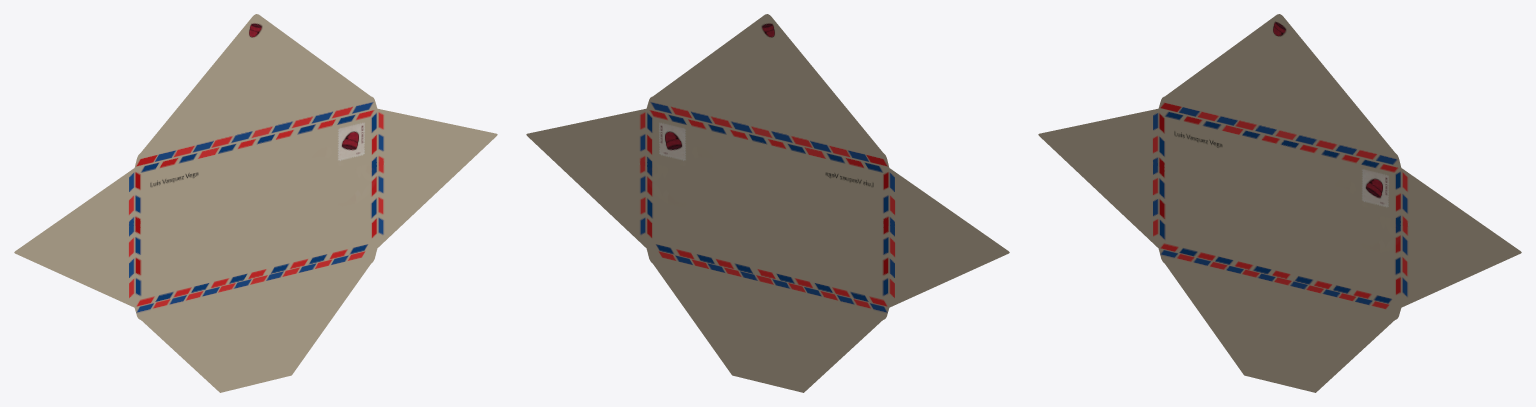
Rendered from envelope.FBX.
3 views of the same model, side by side, from view 1: azimuth 30°, elevation 25°; view 2: azimuth 150°, elevation 25°; view 3: azimuth 330°, elevation 25° (orthographic).
Visible parts, largest first — view 1: envelope_a_001; view 2: envelope_a_001; view 3: envelope_a_001.
Part boxes in pixels (x1,y1,x2,y2): envelope_a_001: [14, 14, 497, 392]; envelope_a_001: [526, 14, 1009, 392]; envelope_a_001: [1038, 14, 1521, 392].
Size of the model in its own units: 59.69 by 43.69 by 1.19e-07.
Materials: 1 (1 with a texture image).
